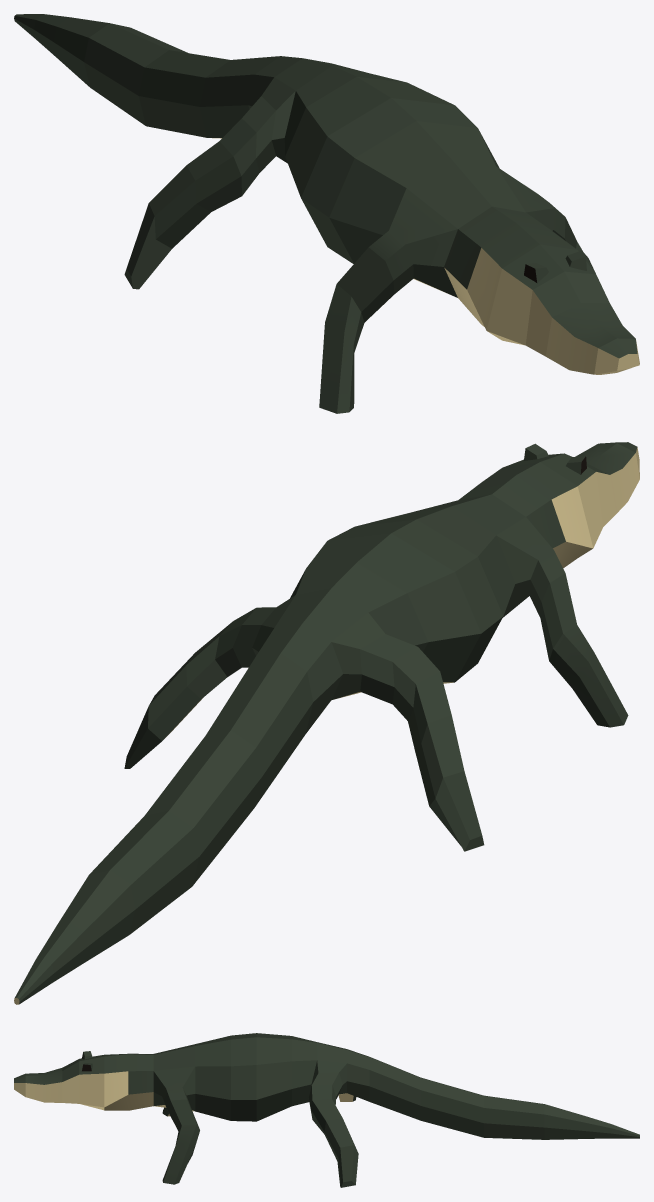
Rendered from 807f9ca6-628b-41ab-8c87-1771f5ffa302.glb.
3 renders of one model, top to bottom at view 1: azimuth 30°, elevation 25°; view 2: azimuth 150°, elevation 25°; view 3: azimuth 270°, elevation 25°, orthographic. The views are drawn at different scales.
Visible parts, largest first — view 1: Geo_Alligator; view 2: Geo_Alligator; view 3: Geo_Alligator.
Boxes of the visible parts, x1,y1,x2,y2 form: Geo_Alligator: (14,14,639,413); Geo_Alligator: (14,442,639,1004); Geo_Alligator: (14,1033,639,1187).
Size of the model in its own units: 54.22 by 31.83 by 163.
Materials: 1 (1 with a texture image).
